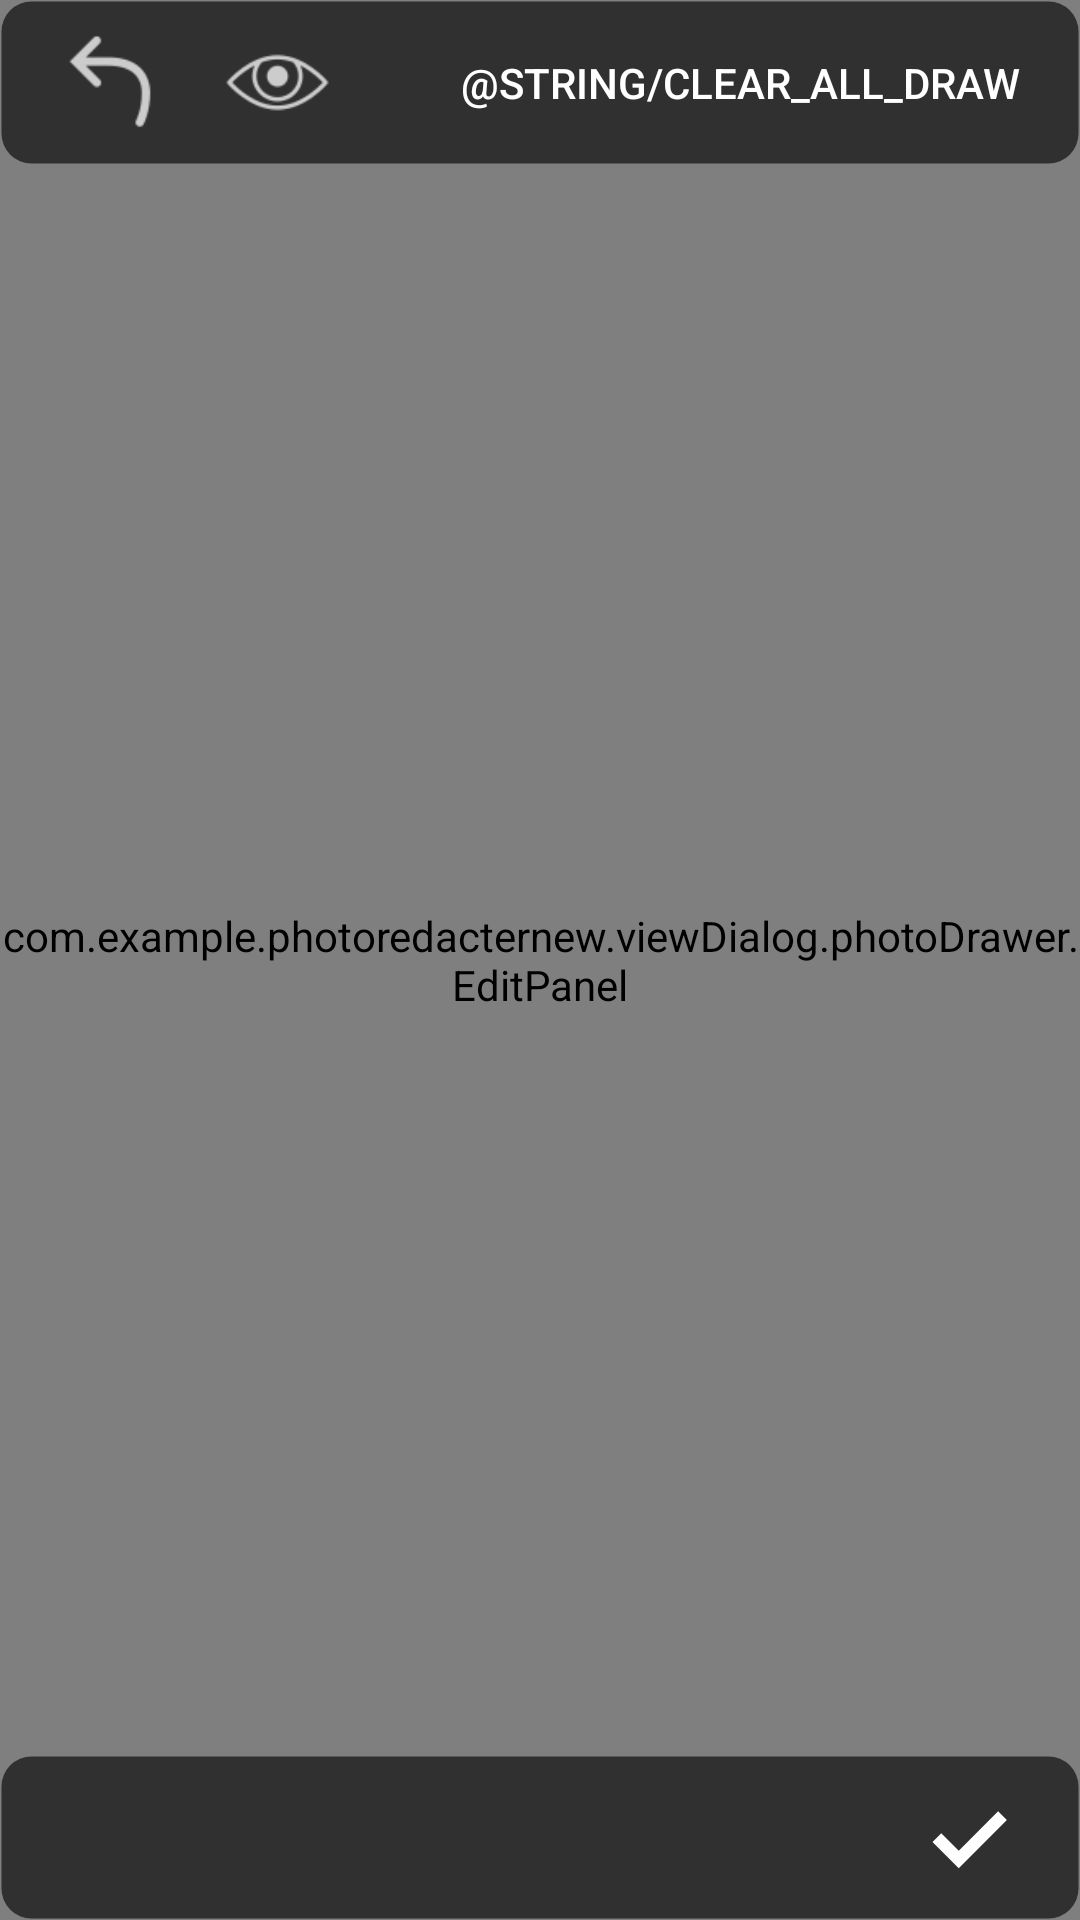

Icon bounding boxes for this 1080w x 1920h phone screenshot, format box=[x1, y1, x2, y2]:
back: box=[69, 36, 151, 127]
check mark: box=[932, 1811, 1007, 1868]
eye: box=[226, 54, 329, 111]
